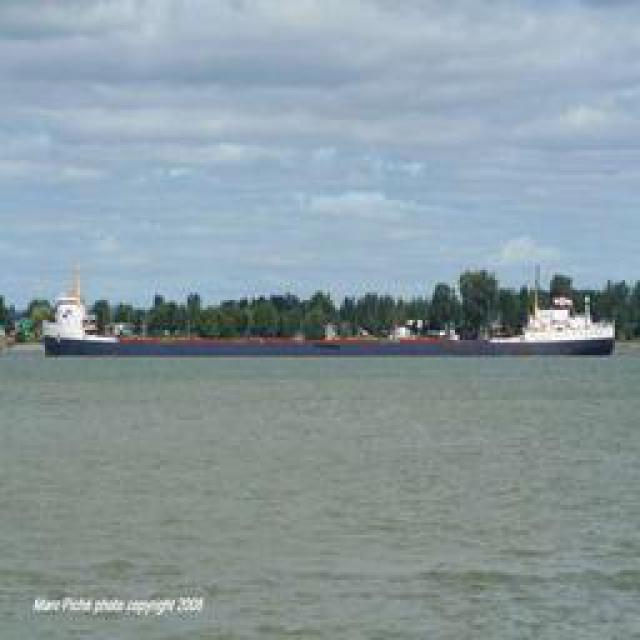Ship: (36, 264, 624, 364)
